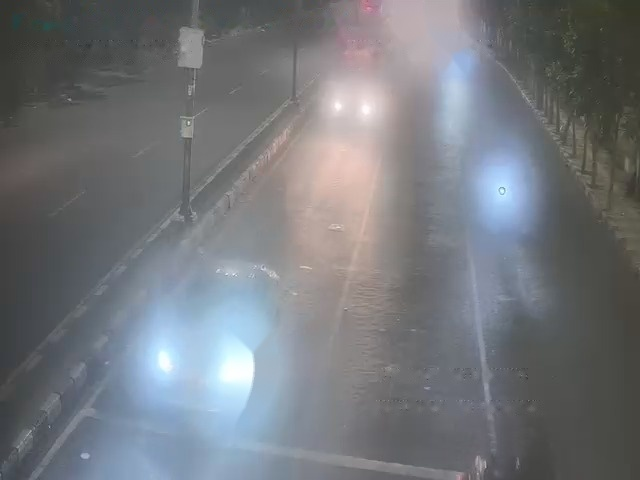Mobil: (329, 68, 374, 126)
Motor: (158, 255, 274, 401), (490, 178, 514, 215)
